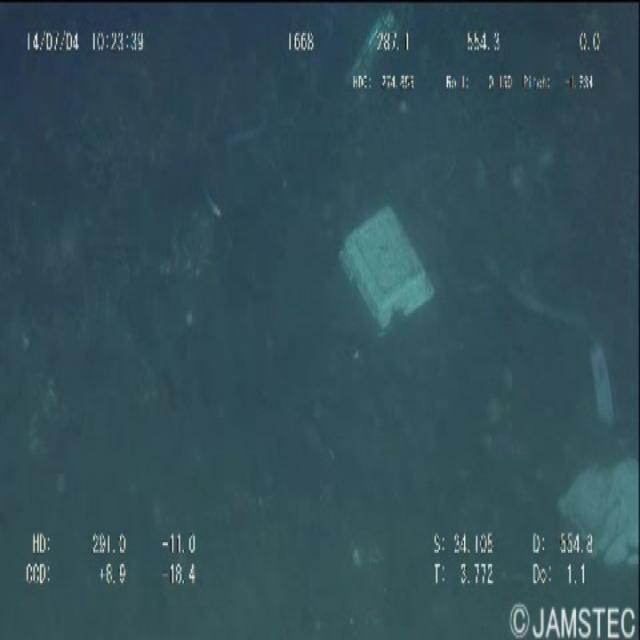Cutlery: (338, 196, 443, 352)
Glass: (344, 0, 411, 125)
Litter: (576, 333, 628, 432)
Plastic: (549, 458, 640, 585)
